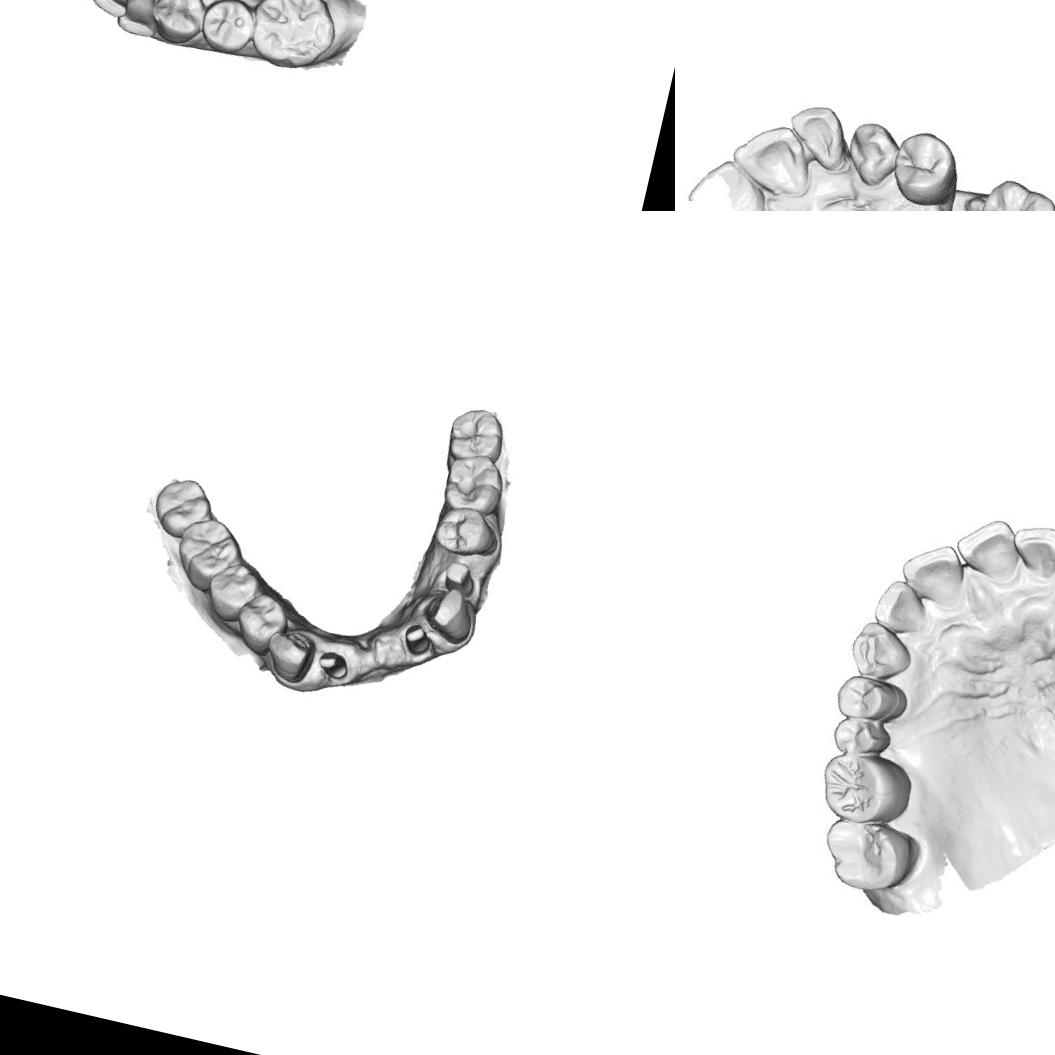abutment: (440, 558, 480, 600), (314, 647, 352, 682), (399, 622, 434, 659)
canine: (843, 620, 919, 690), (838, 114, 906, 191), (423, 583, 480, 646), (260, 625, 316, 686), (113, 0, 165, 39)
incisor: (724, 114, 820, 202), (779, 98, 856, 173), (955, 516, 1028, 587), (899, 540, 969, 605), (868, 579, 932, 639), (1010, 520, 1055, 583), (87, 0, 136, 20)
molar: (815, 811, 926, 902), (816, 745, 918, 832), (243, 0, 344, 77), (169, 512, 248, 598), (437, 446, 510, 518), (148, 472, 218, 544), (443, 402, 510, 470), (968, 173, 1055, 211)
premolar: (886, 124, 968, 211), (229, 586, 295, 660), (200, 557, 266, 628), (430, 501, 500, 562), (195, 0, 258, 59), (828, 710, 894, 762), (839, 673, 906, 720), (147, 0, 211, 49)
